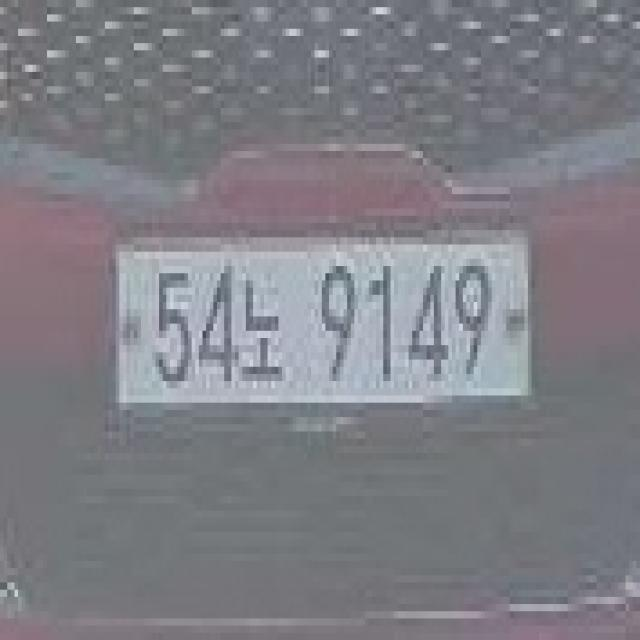1: (366, 230, 402, 410)
4: (408, 252, 456, 410), (192, 245, 235, 402)
5: (148, 238, 202, 388)
9: (314, 244, 362, 388), (452, 245, 495, 402)
license_plate: (108, 223, 542, 446)
no: (239, 266, 282, 374)
